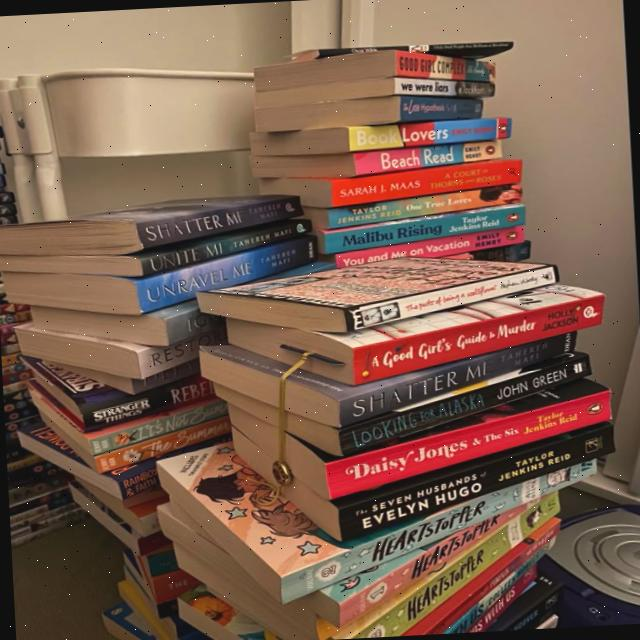book: (333, 391, 610, 493), (353, 294, 608, 381), (143, 219, 313, 278), (139, 198, 297, 246), (399, 95, 480, 117), (399, 80, 498, 95)
